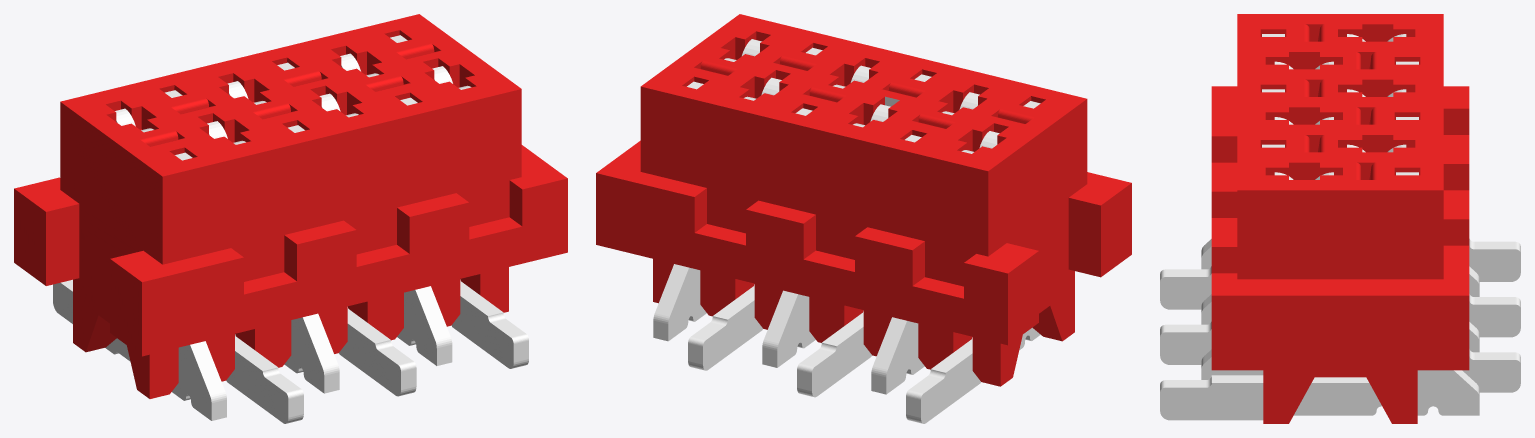
File: mm-6p-smd_p1-27_l9-6_w5_h5-25.obj
3 renders of one model, left to right at view 1: azimuth 30°, elevation 25°; view 2: azimuth 150°, elevation 25°; view 3: azimuth 270°, elevation 25°, orthographic. The views are drawn at different scales.
Visible parts, largest first — view 1: mm-6p-smd_p1-27_l9-6_w5_h5-25; view 2: mm-6p-smd_p1-27_l9-6_w5_h5-25; view 3: mm-6p-smd_p1-27_l9-6_w5_h5-25.
Boxes of the visible parts, x1,y1,x2,y2 form: mm-6p-smd_p1-27_l9-6_w5_h5-25: (14,14,567,423); mm-6p-smd_p1-27_l9-6_w5_h5-25: (596,14,1131,423); mm-6p-smd_p1-27_l9-6_w5_h5-25: (1160,14,1520,423).
Bounding box in the file's own units: 0.0265 × 0.0145 × 0.0193.
